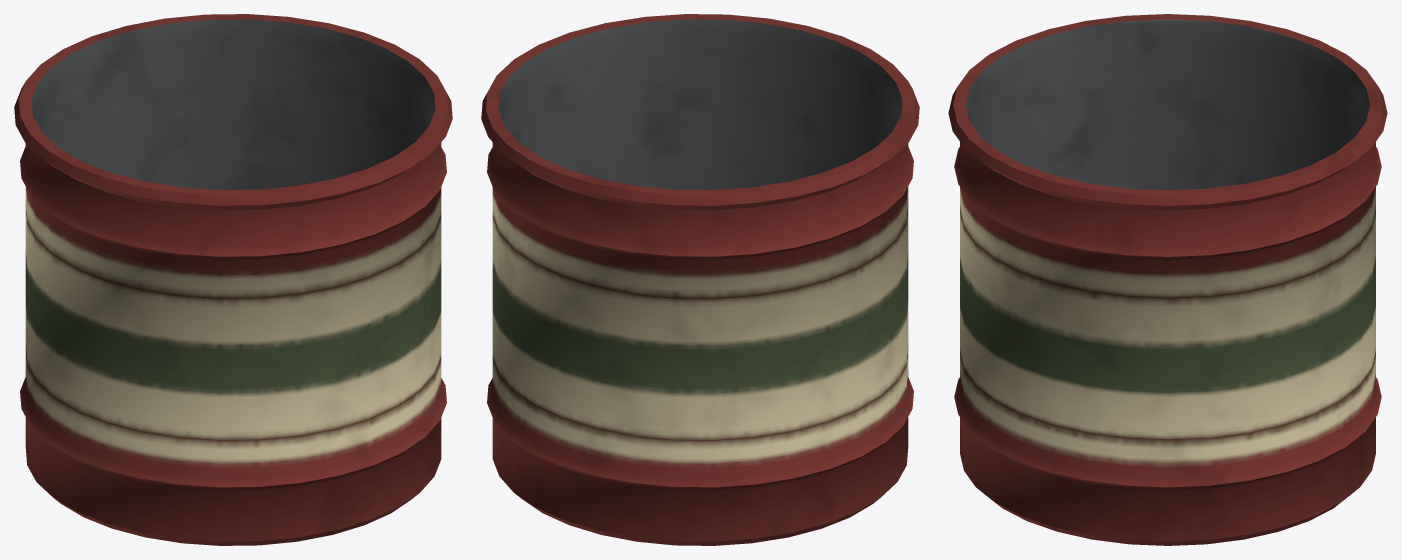
The model's file is cinematic-tape-tin.fbx.
The picture shows the model from 3 angles, left to right: view 1: azimuth 30°, elevation 25°; view 2: azimuth 150°, elevation 25°; view 3: azimuth 270°, elevation 25°; orthographic projection.
Visible parts, largest first — view 1: cinematic-tape-tin; view 2: cinematic-tape-tin; view 3: cinematic-tape-tin.
Boxes of the visible parts, box(x1,y1,x2,y2) form: cinematic-tape-tin: box(14, 14, 452, 545); cinematic-tape-tin: box(481, 14, 919, 545); cinematic-tape-tin: box(948, 14, 1387, 545).
Bounding box in the file's own units: 1.9 × 1.71 × 1.9.
1 material, 1 textured.
